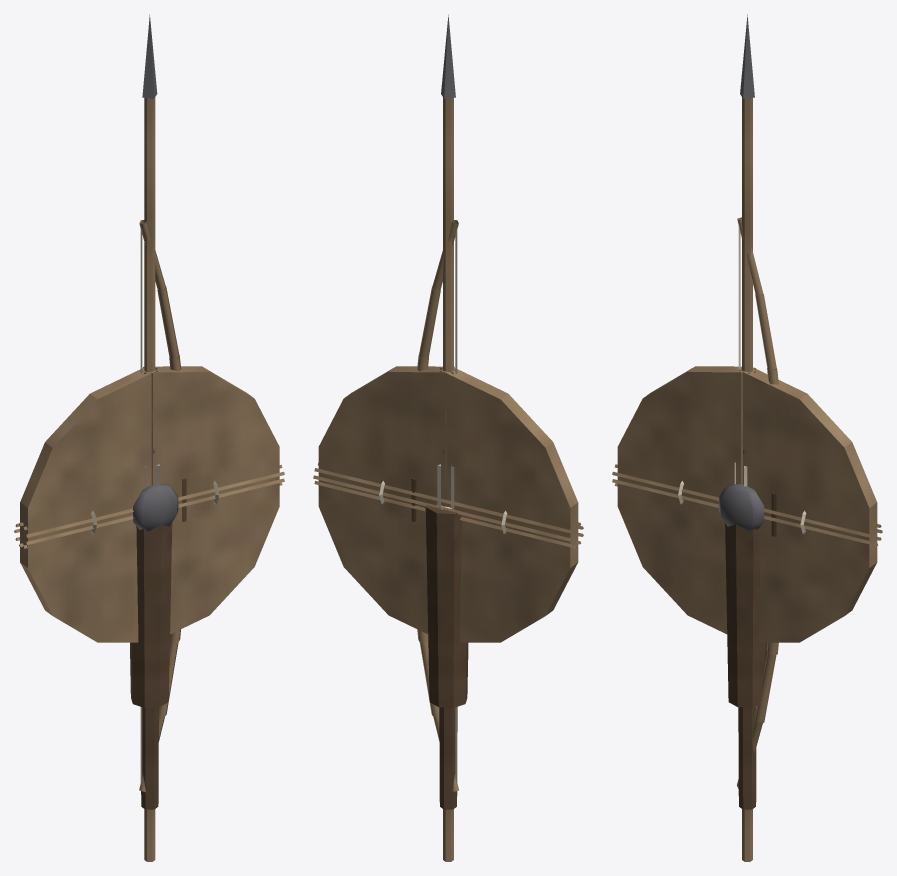
Rendered from crowd-props-guard-v1.glb.
3 views of the same model, side by side, from view 1: azimuth 30°, elevation 25°; view 2: azimuth 150°, elevation 25°; view 3: azimuth 330°, elevation 25° (orthographic).
Parts seen in each view (by area): view 1: prop_round_shield, prop_quiver, prop_spear, prop_bow, prop_shaft_bundle, prop_sheathed_sword; view 2: prop_round_shield, prop_quiver, prop_spear, prop_shaft_bundle, prop_bow, prop_sheathed_sword; view 3: prop_round_shield, prop_quiver, prop_spear, prop_bow, prop_shaft_bundle, prop_sheathed_sword.
Boxes of the visible parts, left/top/right/bottom form: prop_round_shield: left=20, top=366, right=279, bottom=642; prop_quiver: left=130, top=464, right=172, bottom=707; prop_spear: left=142, top=14, right=157, bottom=861; prop_bow: left=139, top=220, right=186, bottom=792; prop_shaft_bundle: left=14, top=464, right=284, bottom=548; prop_sheathed_sword: left=141, top=448, right=158, bottom=809; prop_round_shield: left=318, top=366, right=578, bottom=642; prop_quiver: left=425, top=464, right=468, bottom=707; prop_spear: left=441, top=14, right=455, bottom=861; prop_shaft_bundle: left=313, top=462, right=583, bottom=548; prop_bow: left=411, top=220, right=458, bottom=791; prop_sheathed_sword: left=439, top=447, right=457, bottom=809; prop_round_shield: left=617, top=366, right=877, bottom=642; prop_quiver: left=725, top=462, right=767, bottom=707; prop_spear: left=740, top=14, right=754, bottom=861; prop_bow: left=737, top=217, right=778, bottom=788; prop_shaft_bundle: left=612, top=464, right=882, bottom=547; prop_sheathed_sword: left=738, top=447, right=756, bottom=809.
Size of the model in its own units: 0.76 by 2.38 by 0.1233.
Materials: 1 (1 with a texture image).
